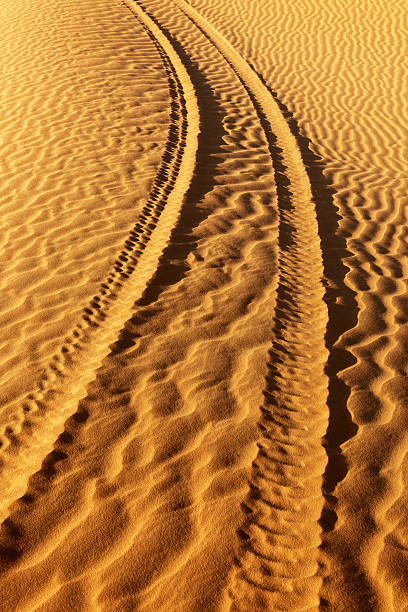vehicle_track: (0, 0, 198, 517), (176, 0, 328, 609)
